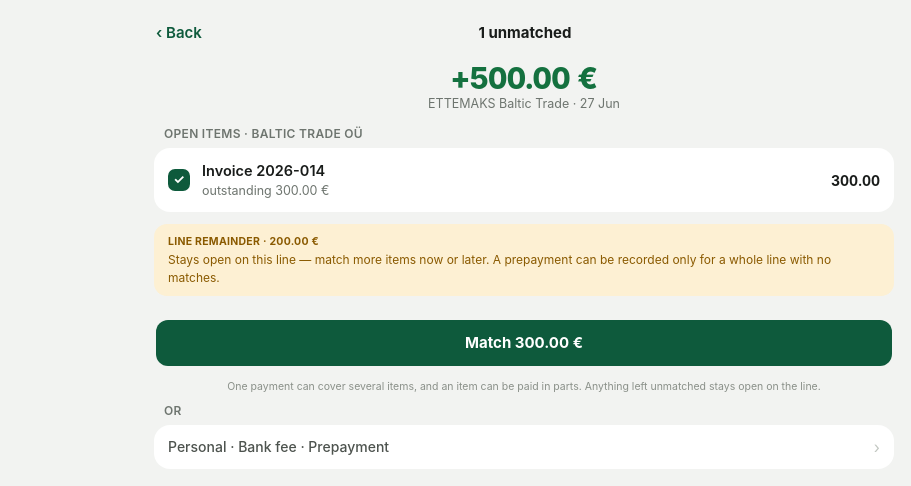
Scenario: TxScreen state composition › renders the candidates state (C) and returns to the statement with an Undo toast after matching
Proposal-backed candidate is preselected → button ready.
Click the button "Match 300.00 €" at (524, 343), box top-left (156, 320), bottom-right (892, 366)
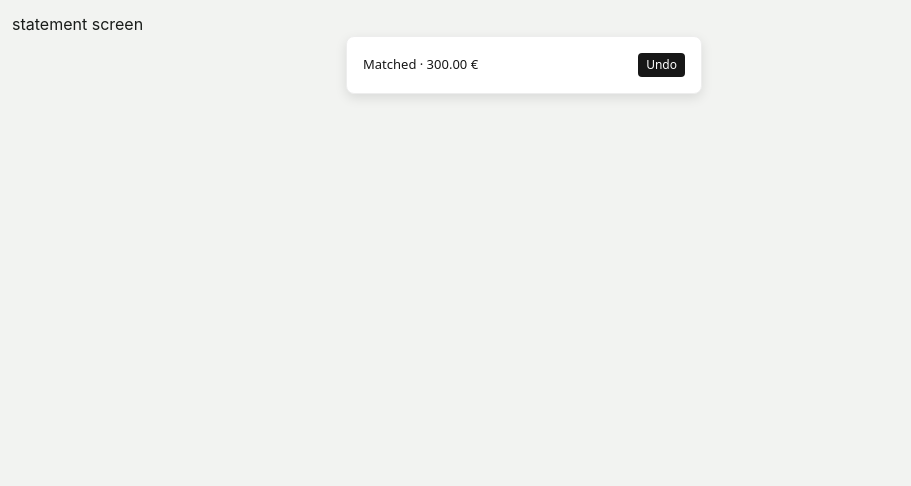
Expected: the text "Matched · 300.00 €" is shown, top-left (363, 55), bottom-right (478, 75)
Expected: the button "Undo" is shown, top-left (638, 53), bottom-right (685, 77)
